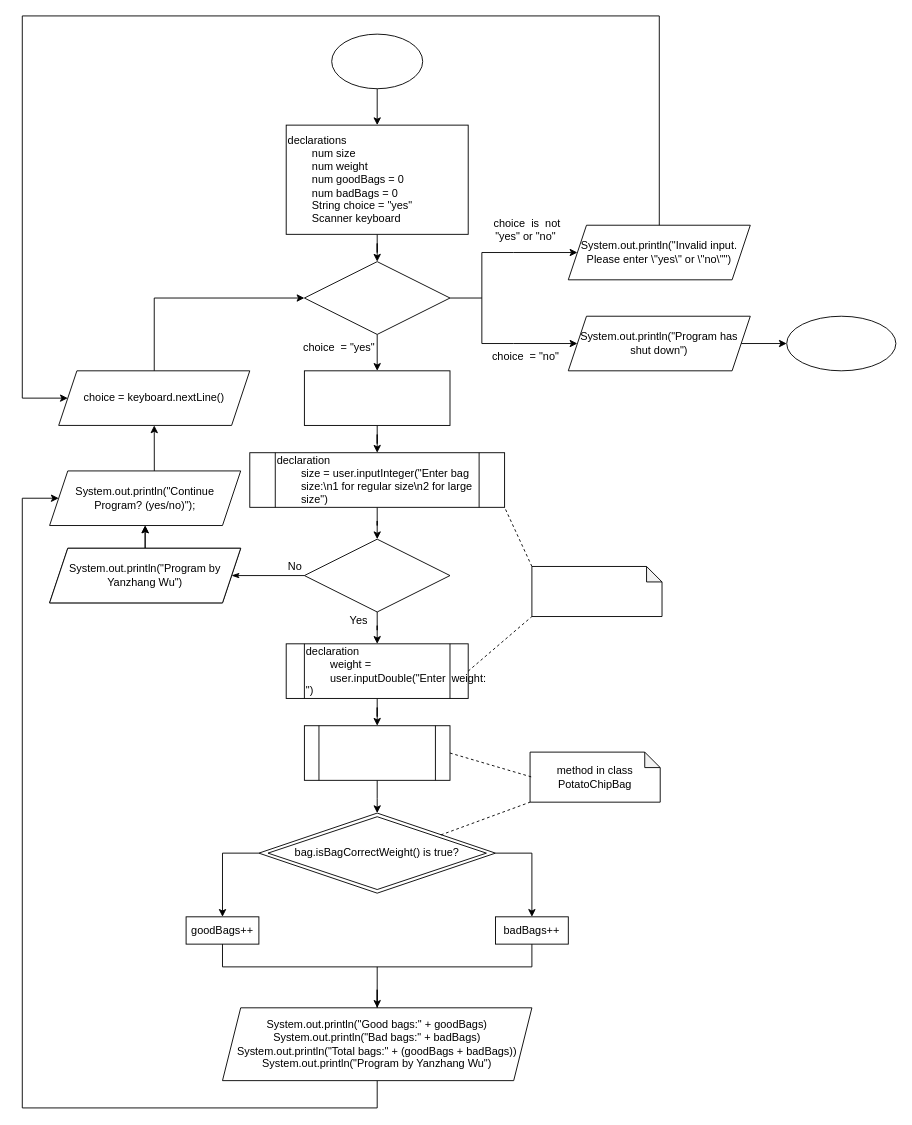
Some shapes in this 912 by 1125 pixel diagram are drawn without their labels. The shapes that lost their labels are listed below. From the top down, each one's centre as x and y in pixels, then its label:
pixel 377 61: Start
pixel 376 297: choice = ?
pixel 841 343: End
pixel 376 397: declarations PotatoChipBag bag User user
pixel 376 575: if size is 1 or 2
pixel 596 591: method in class User
pixel 376 752: bag.setSize(size) bag.setWeight(weight)
